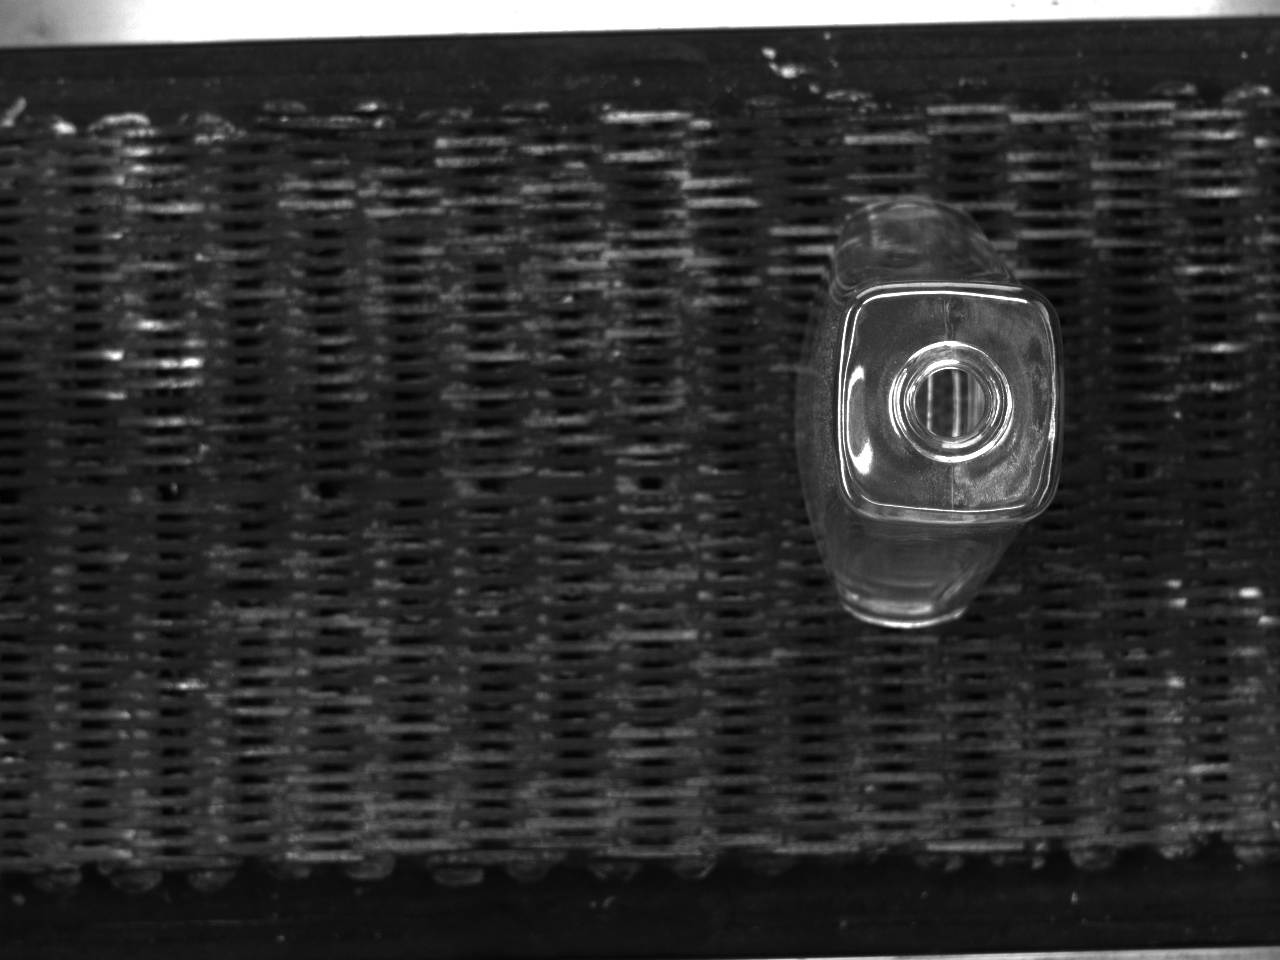bottleneck: (891, 342, 1014, 464)
